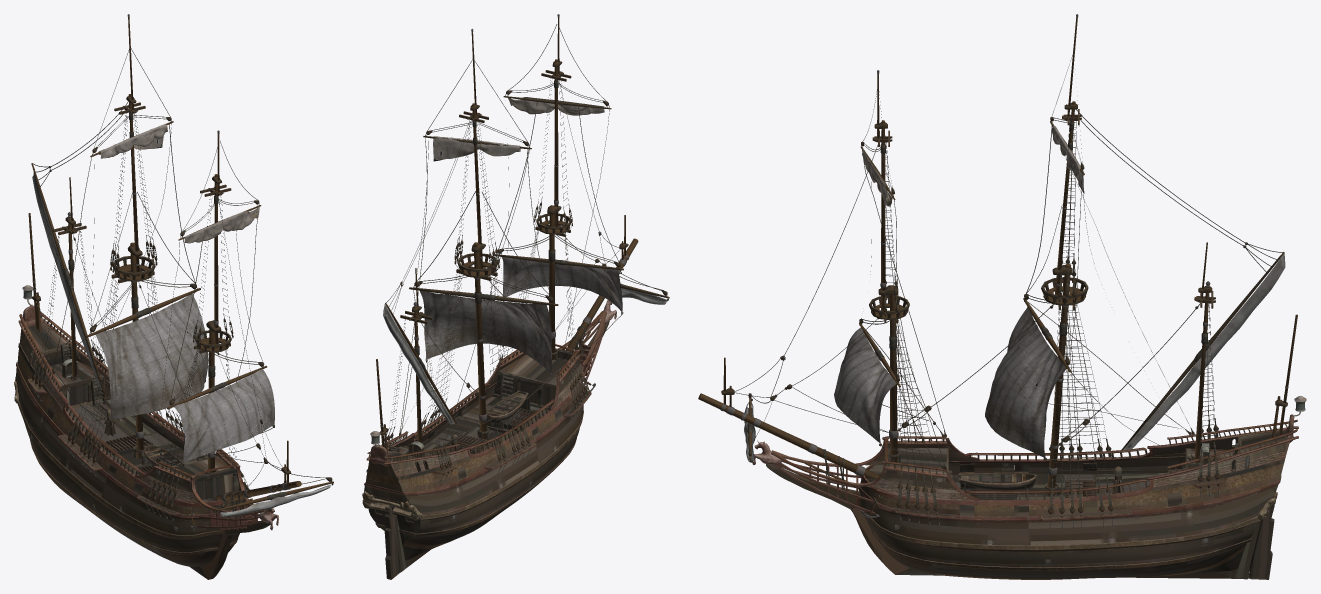
File: ship.glb
The picture shows the model from 3 angles, left to right: view 1: azimuth 30°, elevation 25°; view 2: azimuth 150°, elevation 25°; view 3: azimuth 270°, elevation 25°; orthographic projection. The views are drawn at different scales.
Parts seen in each view (by area): view 1: hull_hull_0, rigging_rigging_0, sails_sails_0; view 2: hull_hull_0, rigging_rigging_0, sails_sails_0; view 3: hull_hull_0, rigging_rigging_0, sails_sails_0.
Part boxes in pixels (x1,y1,x2,y2): hull_hull_0: [14, 285, 278, 579]; rigging_rigging_0: [28, 14, 333, 531]; sails_sails_0: [95, 124, 274, 462]; hull_hull_0: [362, 300, 616, 579]; rigging_rigging_0: [376, 14, 669, 482]; sails_sails_0: [420, 97, 622, 372]; hull_hull_0: [752, 396, 1306, 579]; rigging_rigging_0: [698, 14, 1297, 529]; sails_sails_0: [834, 126, 1084, 457].
Bounding box in the file's own units: 6.81 × 24.66 × 24.07.
Materials: 3 (3 with a texture image).
